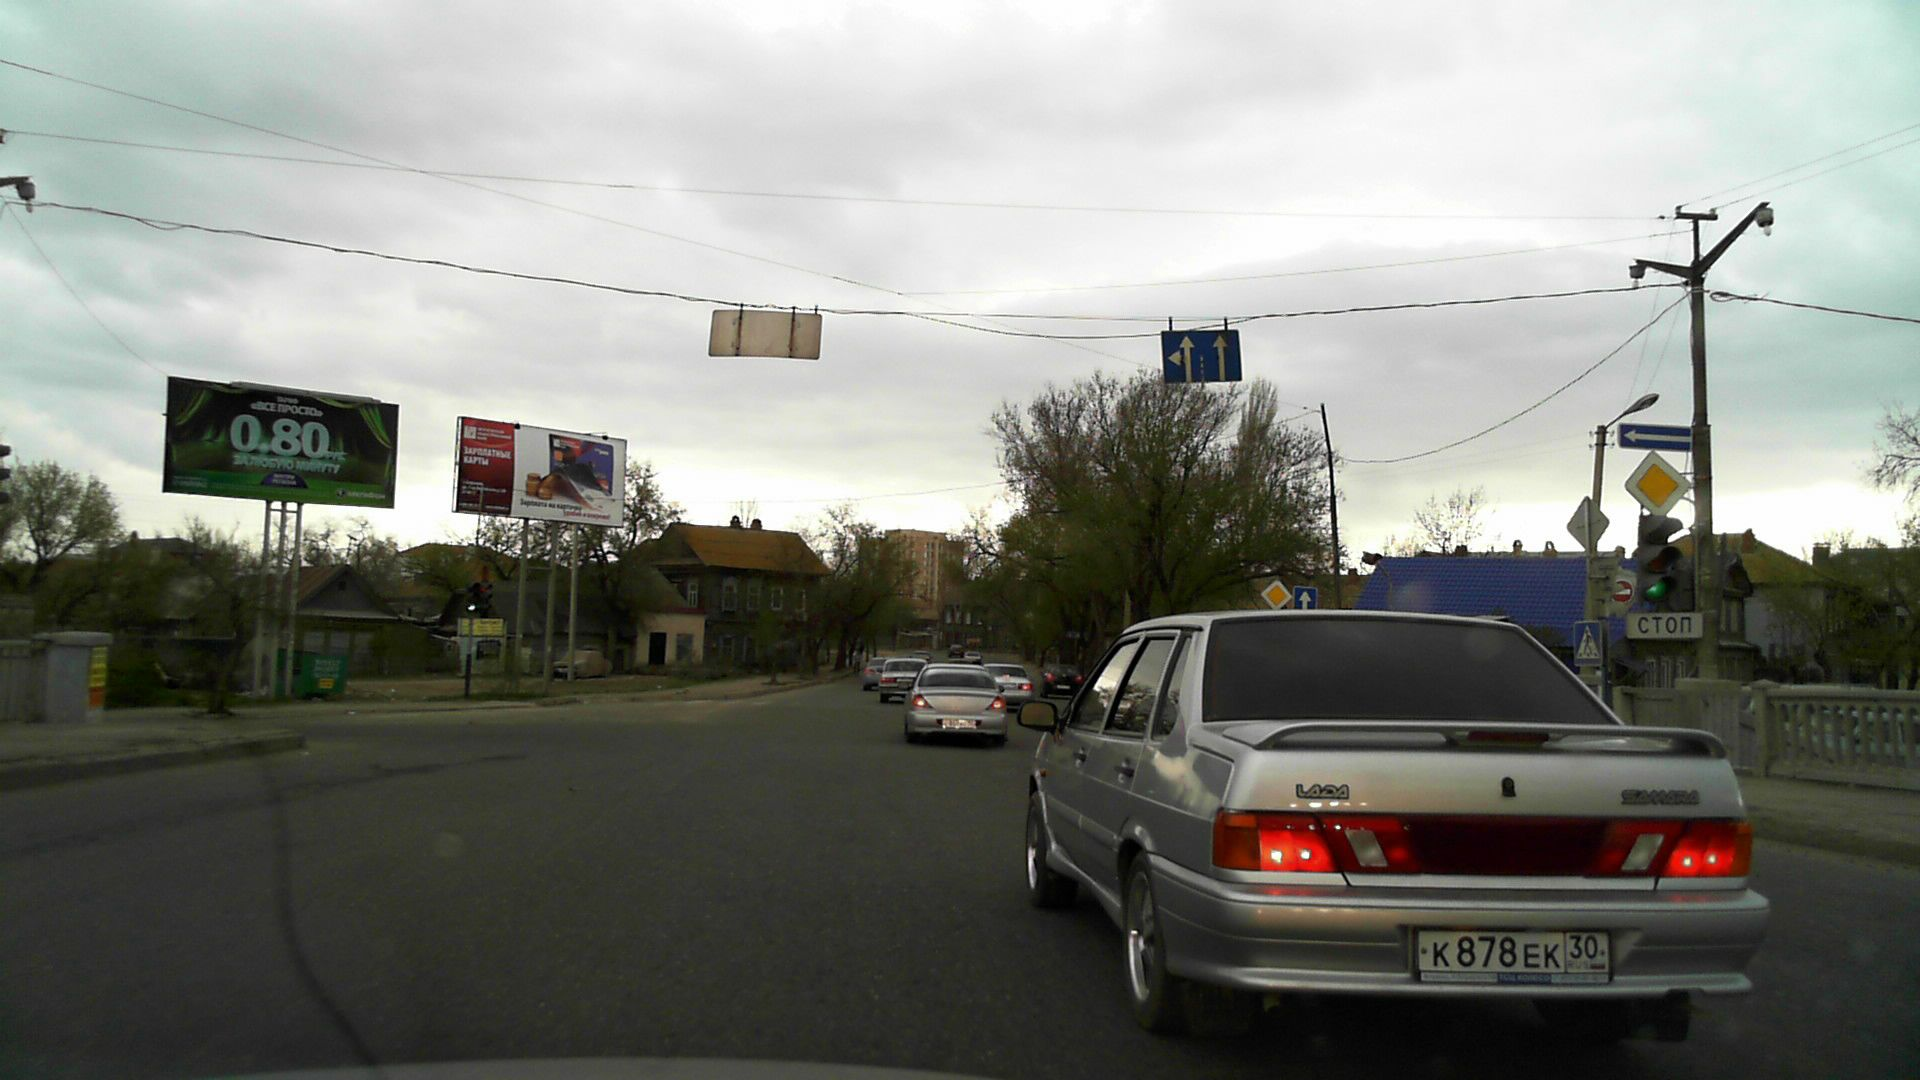One-Way Traffic: (1619, 423, 1692, 451)
